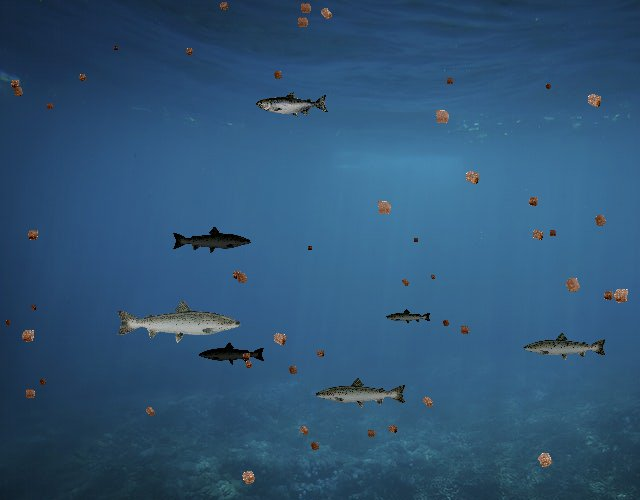Fish: (114, 298, 243, 344), (315, 377, 409, 410), (522, 331, 608, 362), (171, 225, 252, 254), (257, 91, 330, 117), (198, 341, 266, 366), (385, 308, 432, 325)
Pellet: (606, 280, 636, 310), (234, 463, 262, 491), (266, 325, 293, 352), (314, 1, 338, 25), (8, 81, 29, 102), (214, 0, 233, 16), (74, 70, 90, 86), (542, 80, 555, 93), (27, 302, 39, 314)
